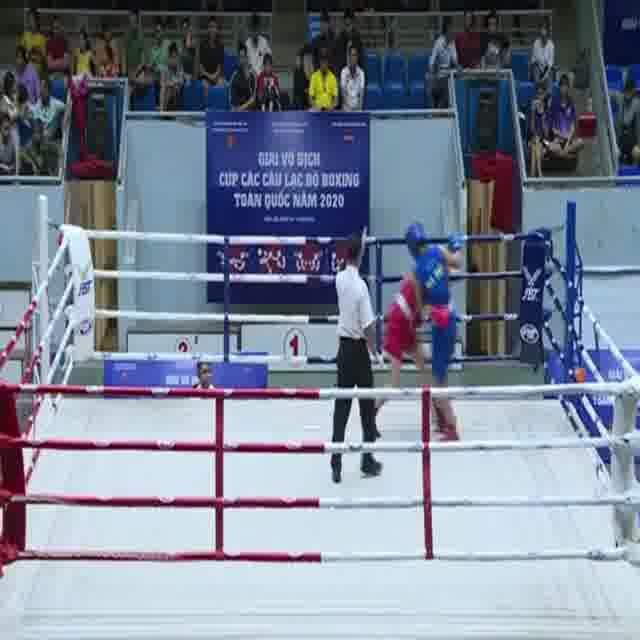blue-player: (403, 216, 465, 443)
red-player: (358, 246, 449, 435)
referee: (330, 224, 385, 485)
